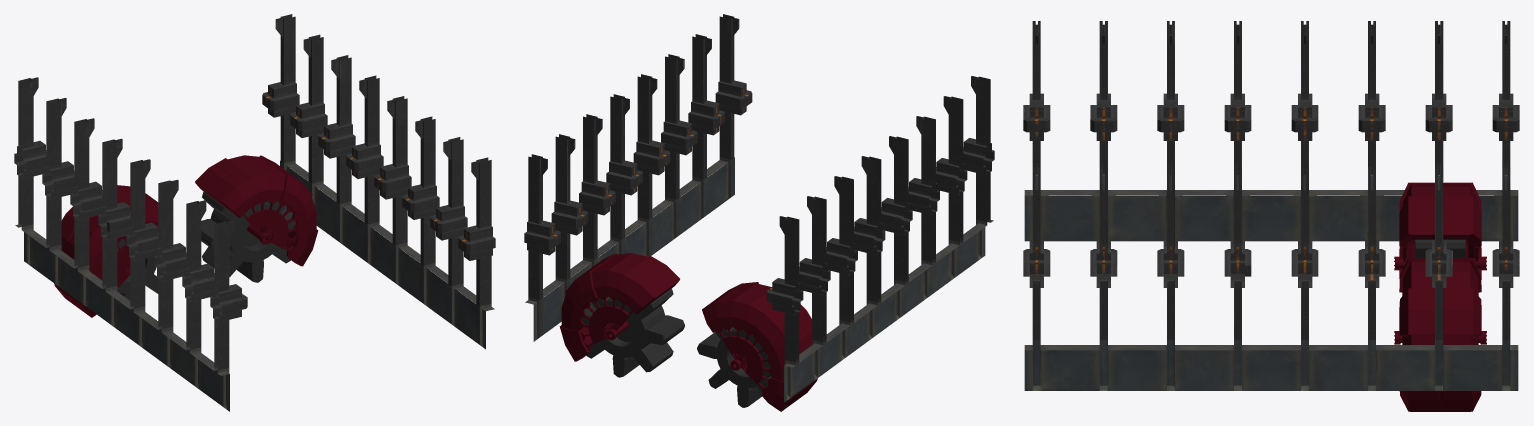
3 views of the same model, side by side, from view 1: azimuth 30°, elevation 25°; view 2: azimuth 150°, elevation 25°; view 3: azimuth 270°, elevation 25° (orthographic). The views are drawn at different scales.
Visible parts, largest first — view 1: Door_004__1_, Door_004, Cylinder_002_1, Gear_001_1, Cylinder_002, Gear_001; view 2: Door_004, Door_004__1_, Cylinder_002_1, Cylinder_002, Gear_001_1, Gear_001; view 3: Door_004__1_, Door_004, Cylinder_002_1, Cylinder_002, Gear_001.
Boxes of the visible parts, x1,y1,x2,y2 form: Door_004__1_: (262, 14, 495, 349); Door_004: (14, 77, 247, 411); Cylinder_002_1: (195, 155, 318, 266); Gear_001_1: (201, 192, 295, 282); Cylinder_002: (54, 185, 158, 317); Gear_001: (102, 239, 158, 300); Door_004: (766, 76, 994, 402); Door_004__1_: (524, 14, 752, 341); Cylinder_002_1: (559, 253, 679, 361); Cylinder_002: (702, 282, 817, 411); Gear_001_1: (581, 288, 684, 377); Gear_001: (697, 327, 771, 407); Door_004__1_: (1023, 163, 1519, 390); Door_004: (1023, 21, 1519, 241); Cylinder_002_1: (1394, 258, 1486, 411); Cylinder_002: (1394, 182, 1486, 279); Gear_001: (1415, 239, 1465, 257).
Size of the model in its own units: 7565 by 5847 by 9898.
Materials: 3 (1 with a texture image).
